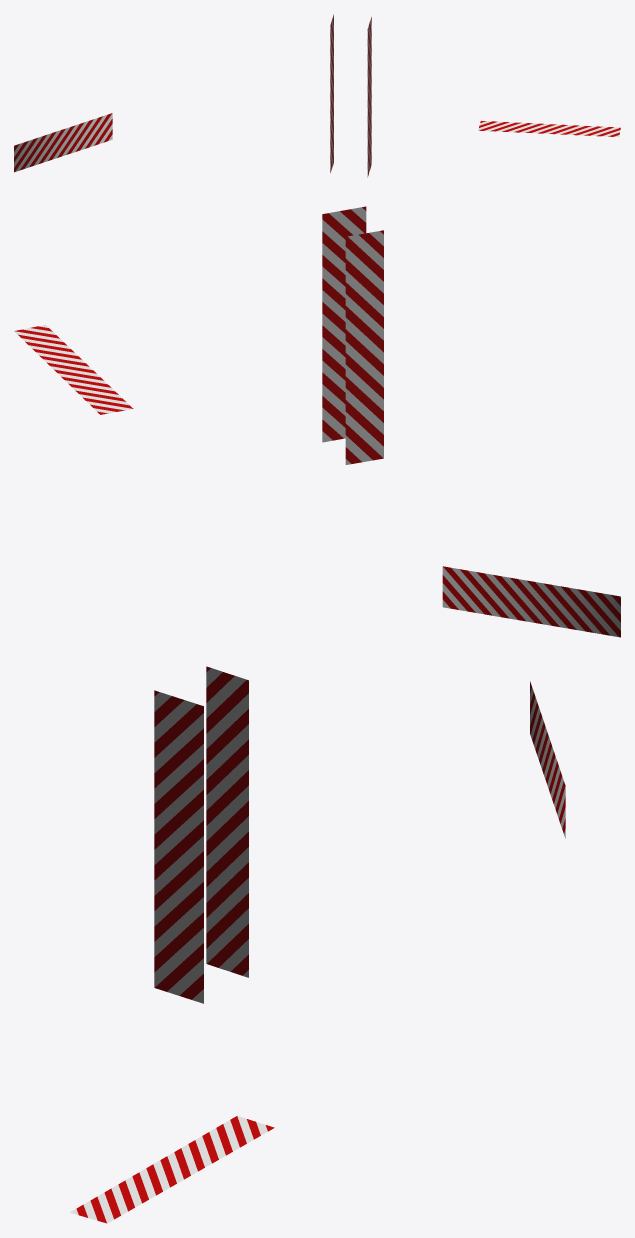
File: Dam_Alpha_77.glb
The picture shows the model from 3 angles, top to bottom: view 1: azimuth 30°, elevation 25°; view 2: azimuth 150°, elevation 25°; view 3: azimuth 270°, elevation 25°; orthographic projection. The views are drawn at different scales.
Parts seen in each view (by area): view 1: Dam_Alpha_77; view 2: Dam_Alpha_77; view 3: Dam_Alpha_77.
Boxes of the visible parts, x1,y1,x2,y2 form: Dam_Alpha_77: [14, 14, 620, 177]; Dam_Alpha_77: [14, 206, 620, 637]; Dam_Alpha_77: [70, 666, 565, 1223].
Bounding box in the file's own units: 61.25 × 17.38 × 26.25.
1 material, 1 textured.
